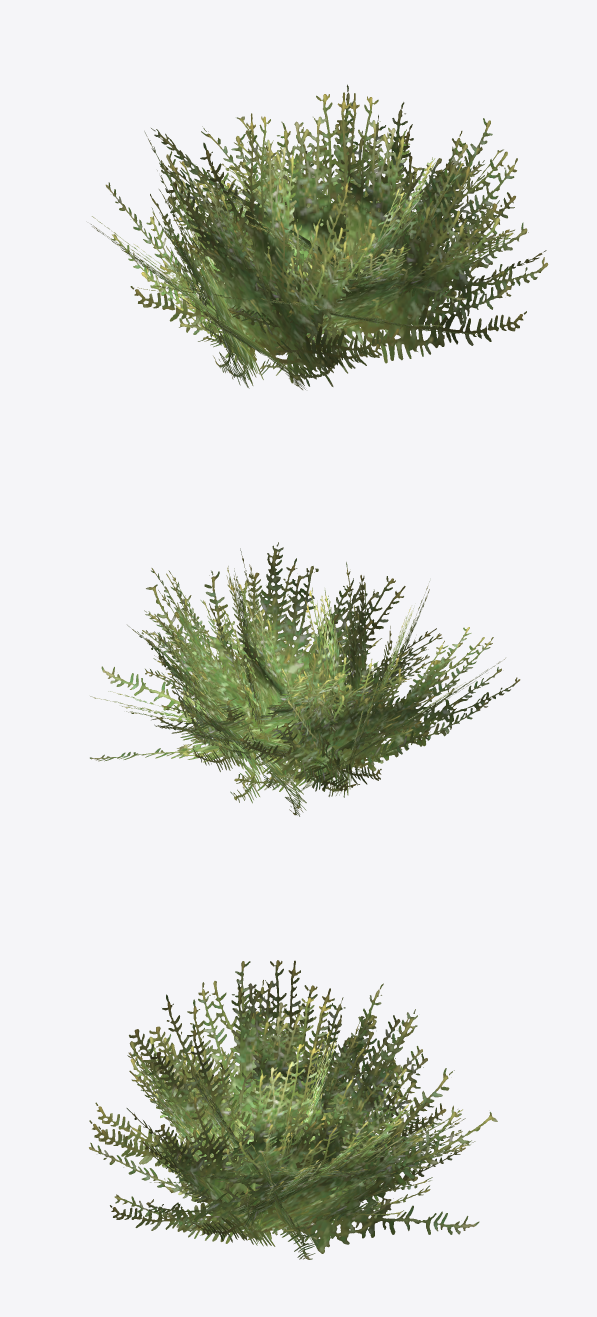
The model's file is shrb_arid_green_l0.fbx.
The picture shows the model from 3 angles, top to bottom: view 1: azimuth 30°, elevation 25°; view 2: azimuth 150°, elevation 25°; view 3: azimuth 270°, elevation 25°; orthographic projection. The views are drawn at different scales.
Visible parts, largest first — view 1: mesh_node; view 2: mesh_node; view 3: mesh_node.
Part boxes in pixels (<box>): mesh_node: <box>91,84,548,389</box>; mesh_node: <box>90,542,520,816</box>; mesh_node: <box>89,960,497,1259</box>.
Size of the model in its own units: 2.83 by 1.69 by 3.2.
